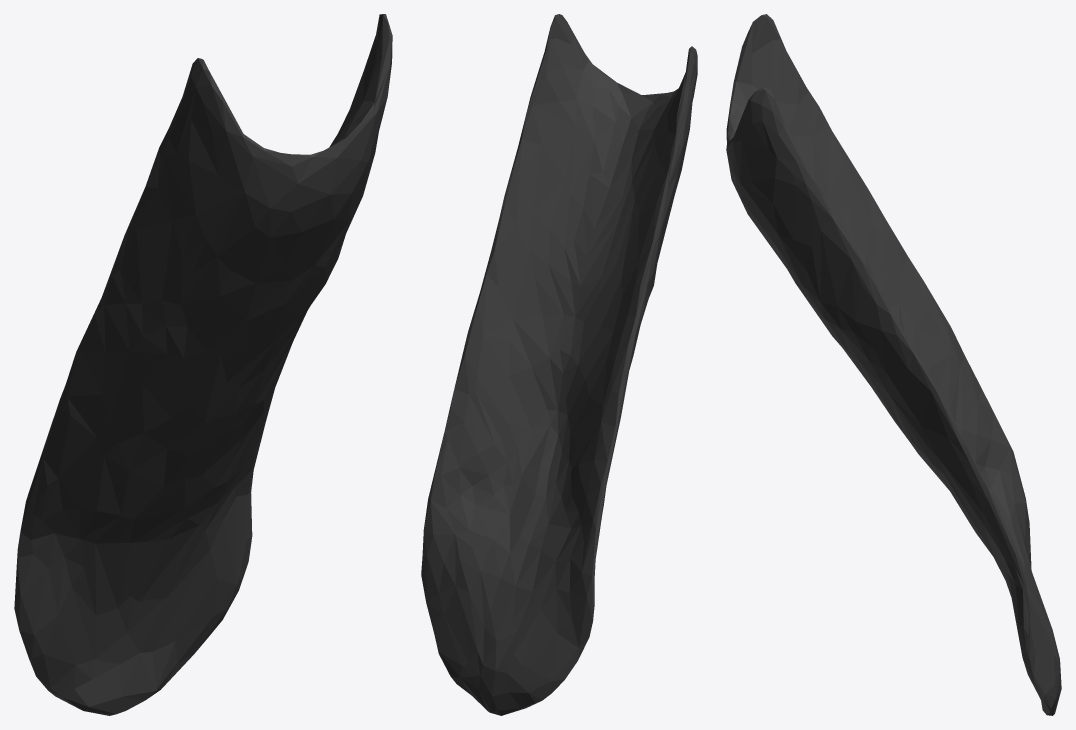
The model's file is m_cutaneous_colli.glb.
The picture shows the model from 3 angles, left to right: view 1: azimuth 30°, elevation 25°; view 2: azimuth 150°, elevation 25°; view 3: azimuth 270°, elevation 25°; orthographic projection. The views are drawn at different scales.
Visible parts, largest first — view 1: m_cutaneous_colli; view 2: m_cutaneous_colli; view 3: m_cutaneous_colli.
Part boxes in pixels (x1=…): m_cutaneous_colli: x1=14, y1=14, x2=392, y2=715; m_cutaneous_colli: x1=421, y1=14, x2=697, y2=715; m_cutaneous_colli: x1=726, y1=14, x2=1061, y2=715.
Bounding box in the file's own units: 0.00275 × 0.009 × 0.00413.
Materials: 1 (1 with a texture image).
